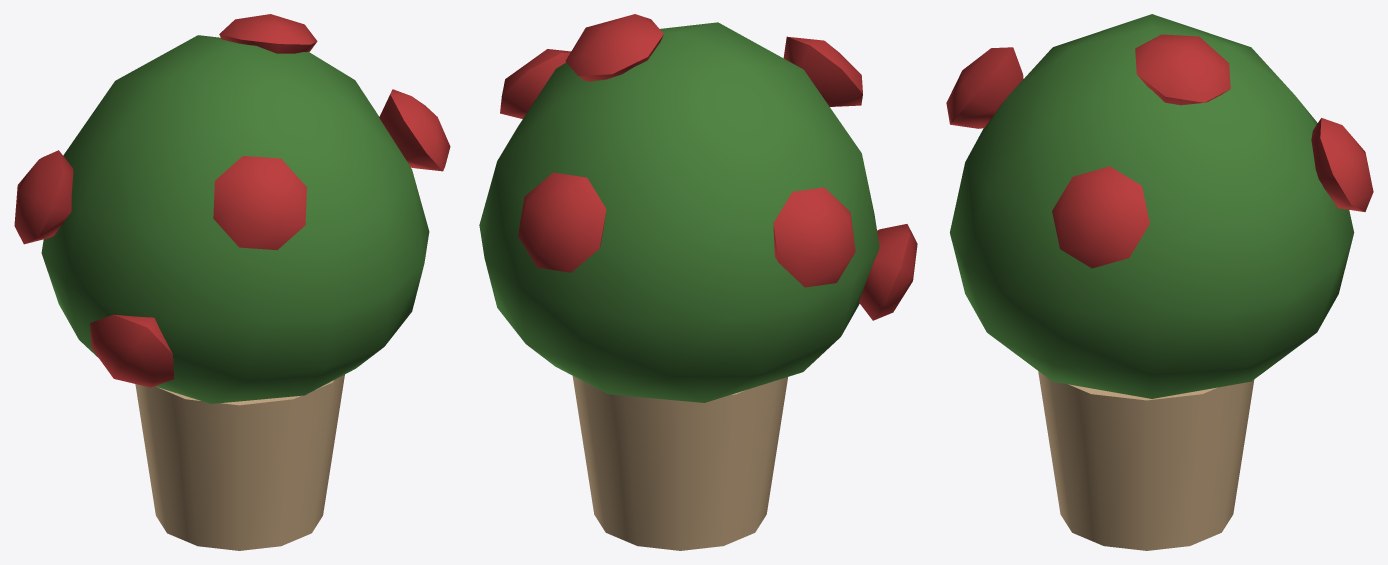
The model's file is SM_pot_flowerbush.fbx.
3 renders of one model, left to right at view 1: azimuth 30°, elevation 25°; view 2: azimuth 150°, elevation 25°; view 3: azimuth 270°, elevation 25°, orthographic. The views are drawn at different scales.
Parts seen in each view (by area): view 1: Cylinder51264; view 2: Cylinder51264; view 3: Cylinder51264.
Part boxes in pixels (x1,y1,x2,y2): Cylinder51264: [14, 14, 450, 550]; Cylinder51264: [479, 14, 917, 550]; Cylinder51264: [946, 14, 1373, 550].
Size of the model in its own units: 41.64 by 50.86 by 39.92.
